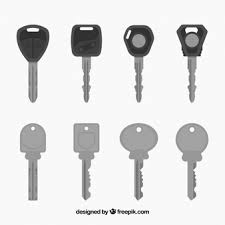kicharina: (118, 119, 161, 202), (68, 23, 110, 104), (13, 22, 53, 104), (171, 120, 211, 202), (69, 119, 104, 202), (121, 23, 155, 105), (174, 22, 208, 103), (18, 122, 49, 201)
